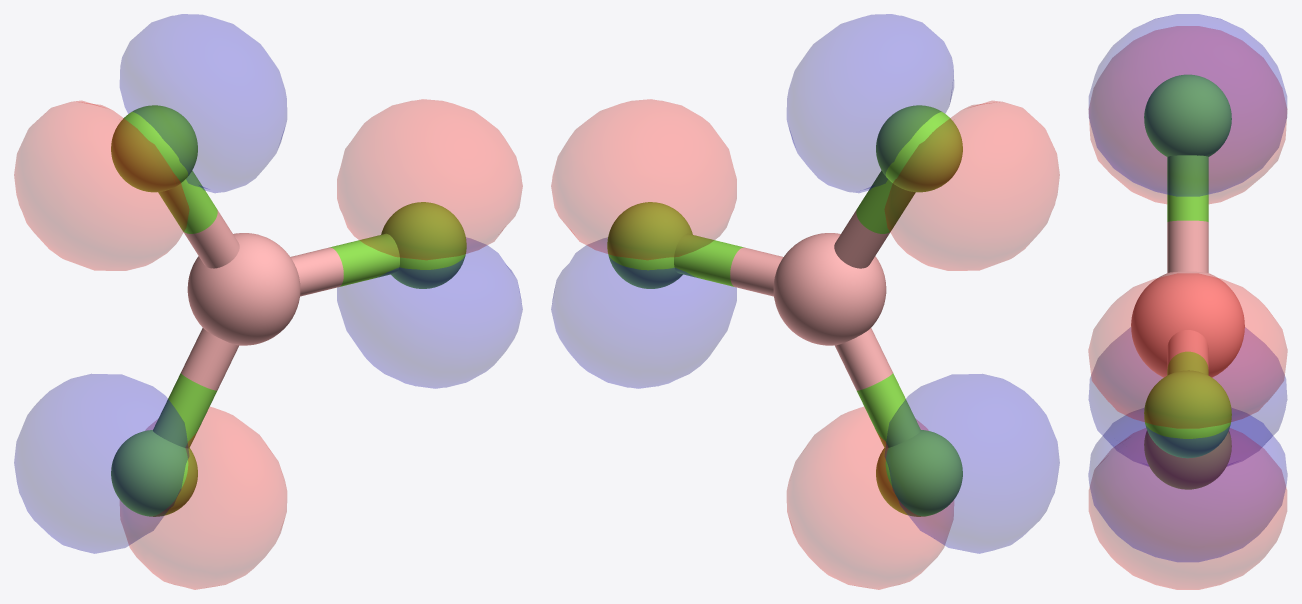
The picture shows the model from 3 angles, left to right: view 1: azimuth 30°, elevation 25°; view 2: azimuth 150°, elevation 25°; view 3: azimuth 270°, elevation 25°; orthographic projection.
Parts seen in each view (by area): view 1: surface.001, surface, atoms.001, atoms, bonds.001, bonds; view 2: surface.001, surface, atoms.001, atoms, bonds.001, bonds; view 3: surface, surface.001, atoms.001, atoms, bonds.001, bonds.
Boxes of the visible parts, x1,y1,x2,y2 form: surface.001: (14,14,522,553); surface: (14,99,522,589); atoms.001: (111,105,466,516); atoms: (187,233,300,345); bonds.001: (153,170,399,448); bonds: (181,209,343,390); surface.001: (551,14,1059,553); surface: (551,99,1059,589); atoms.001: (607,105,962,516); atoms: (773,233,886,345); bonds.001: (674,170,920,448); bonds: (730,209,892,390); surface: (1088,26,1287,589); surface.001: (1088,14,1287,561); atoms.001: (1144,74,1231,489); atoms: (1131,271,1244,377); bonds.001: (1167,155,1208,375); bonds: (1167,220,1208,368).
Bounding box in the file's own units: 4.09 × 4.52 × 1.45.
